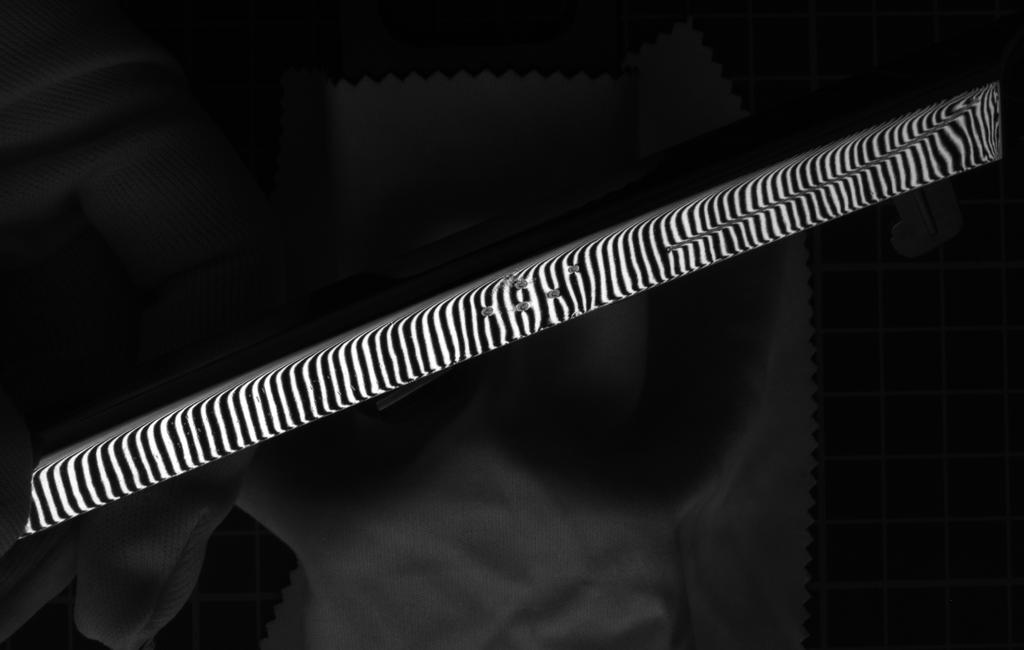Pierced: (536, 282, 569, 300), (475, 301, 501, 320), (507, 298, 535, 315), (508, 278, 538, 292), (565, 260, 588, 277)
Scratch: (659, 97, 979, 262)
